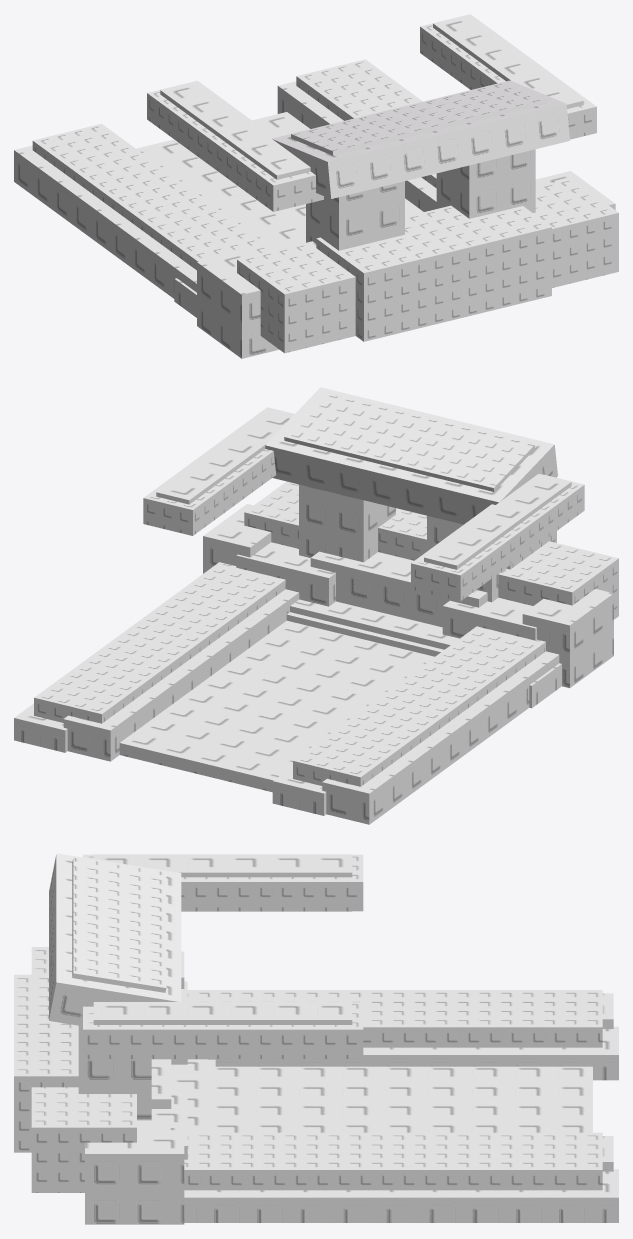
The model's file is 08-volcanic.obj.
The picture shows the model from 3 angles, top to bottom: view 1: azimuth 30°, elevation 25°; view 2: azimuth 150°, elevation 25°; view 3: azimuth 270°, elevation 25°; orthographic projection. The views are drawn at different scales.
Visible parts, largest first — view 1: Part11, Part23, Part4, Part26, Part10, Part5, Part13, Part2, Part18, Part7, Part8, Part29 (+9 smaller); view 2: Part29, Part23, Part5, Part4, Part10, Part16, Part21, Part22, Part17, Part2, Part14, Part12 (+18 smaller); view 3: Part29, Part23, Part24, Part5, Part3, Part31, Part13, Part4, Part17, Part21, Part11, Part9 (+10 smaller).
Part boxes in pixels (x1,y1,x2,y2): Part11: (316, 205, 551, 341); Part23: (32, 123, 274, 270); Part4: (272, 80, 569, 198); Part26: (237, 241, 355, 353); Part10: (14, 145, 196, 298); Part5: (291, 82, 546, 155); Part13: (533, 178, 618, 287); Part2: (147, 80, 323, 211); Part18: (197, 250, 278, 358); Part7: (436, 149, 535, 218); Part8: (306, 181, 404, 250); Part29: (296, 59, 436, 188); Part29: (34, 562, 285, 723); Part23: (293, 626, 545, 786); Part5: (284, 393, 535, 491); Part4: (265, 387, 557, 524); Part10: (322, 651, 559, 824); Part16: (63, 589, 299, 761); Part21: (186, 637, 387, 779); Part22: (152, 628, 353, 771); Part17: (221, 645, 422, 788); Part2: (411, 474, 584, 601); Part14: (310, 551, 487, 627); Part12: (119, 620, 318, 762); Part29: (184, 1132, 602, 1190); Part23: (187, 990, 602, 1047); Part24: (184, 1169, 618, 1222); Part5: (72, 858, 166, 992); Part3: (83, 1002, 363, 1058); Part31: (85, 1128, 184, 1224); Part13: (31, 1087, 136, 1192); Part4: (49, 853, 181, 1026); Part17: (215, 1082, 592, 1101); Part21: (215, 1101, 592, 1120); Part11: (14, 974, 78, 1152); Part9: (208, 1026, 618, 1080).
Bounding box in the file's own units: 11.09 × 5.4 × 14.02.
31 materials, 31 textured.
